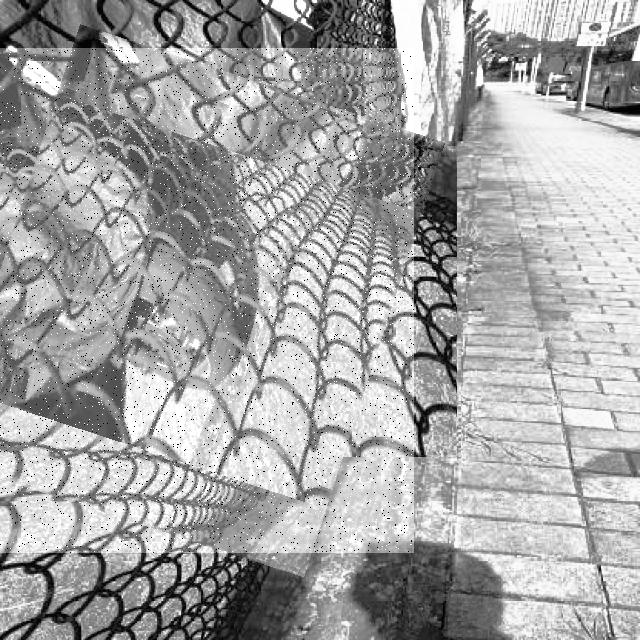fences: (0, 48, 414, 553)
